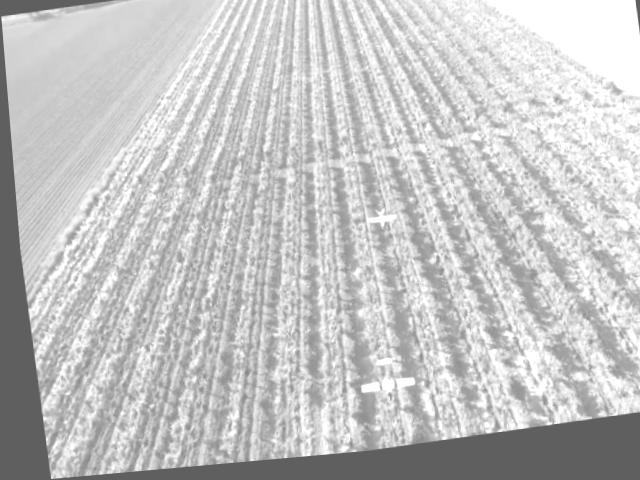hedef: (345, 356, 414, 424), (354, 208, 401, 245)
